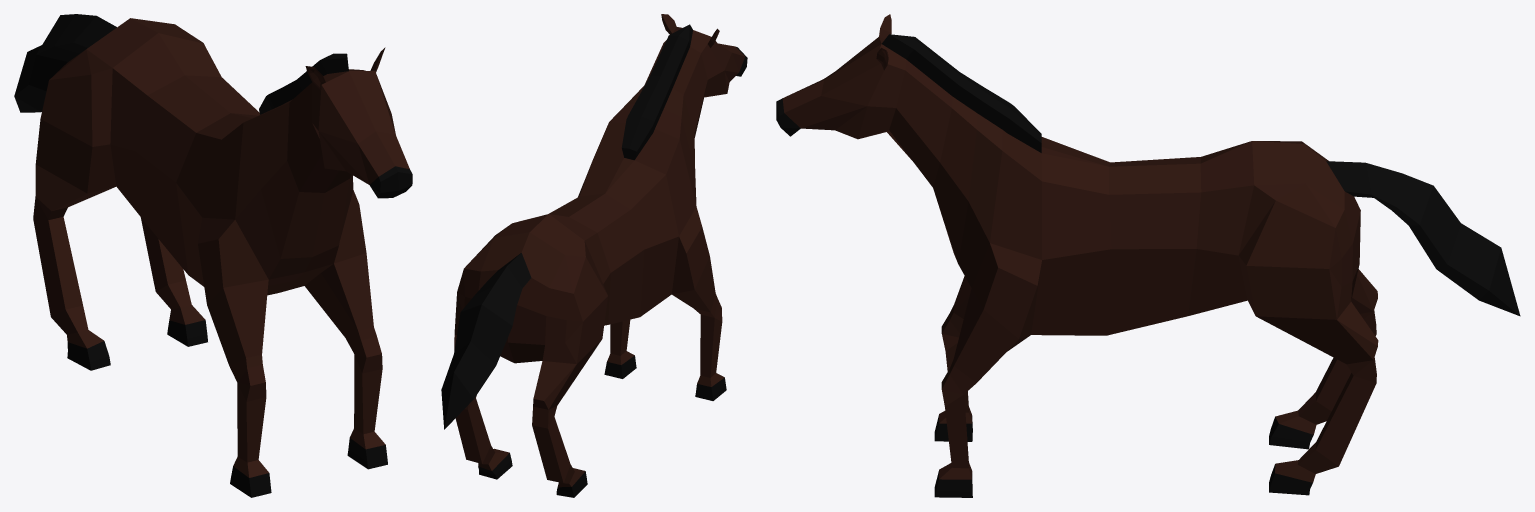
The model's file is Horse_000003.obj.
3 views of the same model, side by side, from view 1: azimuth 30°, elevation 25°; view 2: azimuth 150°, elevation 25°; view 3: azimuth 270°, elevation 25° (orthographic). The views are drawn at different scales.
Parts seen in each view (by area): view 1: Horse_Cylinder; view 2: Horse_Cylinder; view 3: Horse_Cylinder.
Boxes of the visible parts, bbox=[...] form: Horse_Cylinder: bbox=[14, 14, 412, 497]; Horse_Cylinder: bbox=[441, 14, 747, 497]; Horse_Cylinder: bbox=[776, 14, 1520, 497].
Size of the model in its own units: 2.55 by 6.77 by 10.44.
